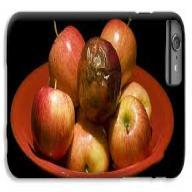apple: (79, 35, 122, 117), (29, 83, 75, 156), (44, 27, 86, 97), (107, 100, 154, 160), (70, 119, 106, 172)
